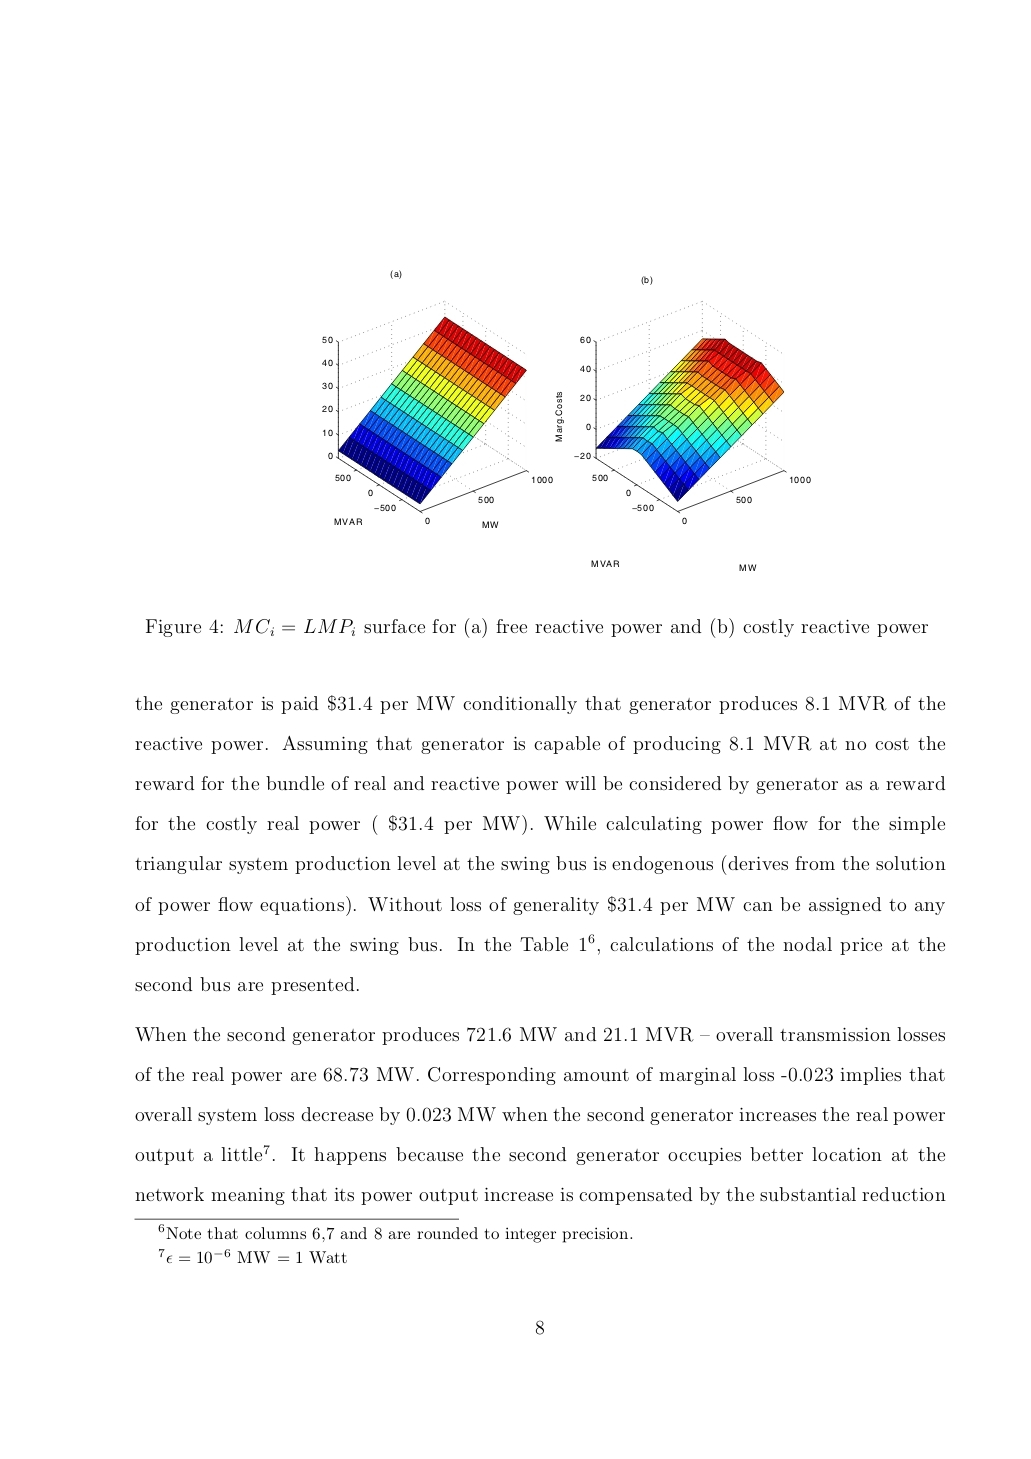figure: (555, 301, 810, 524), (322, 300, 552, 526)
formula: (158, 1248, 346, 1264)
